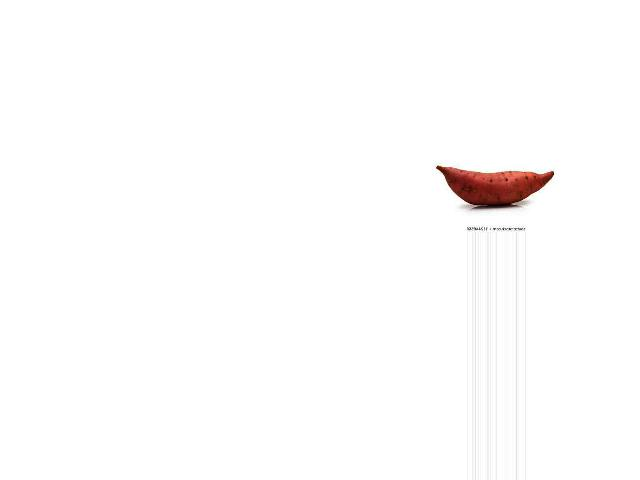sweet_potato: (435, 159, 555, 206)
